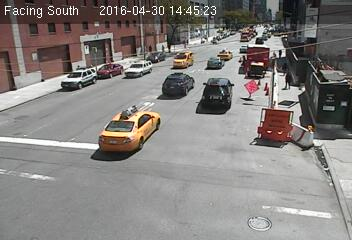neg: (245, 110, 271, 144), (111, 133, 135, 165), (164, 69, 181, 92), (115, 101, 128, 118), (203, 83, 214, 98), (127, 43, 136, 54)
pos: (282, 70, 297, 90), (278, 59, 291, 77)
